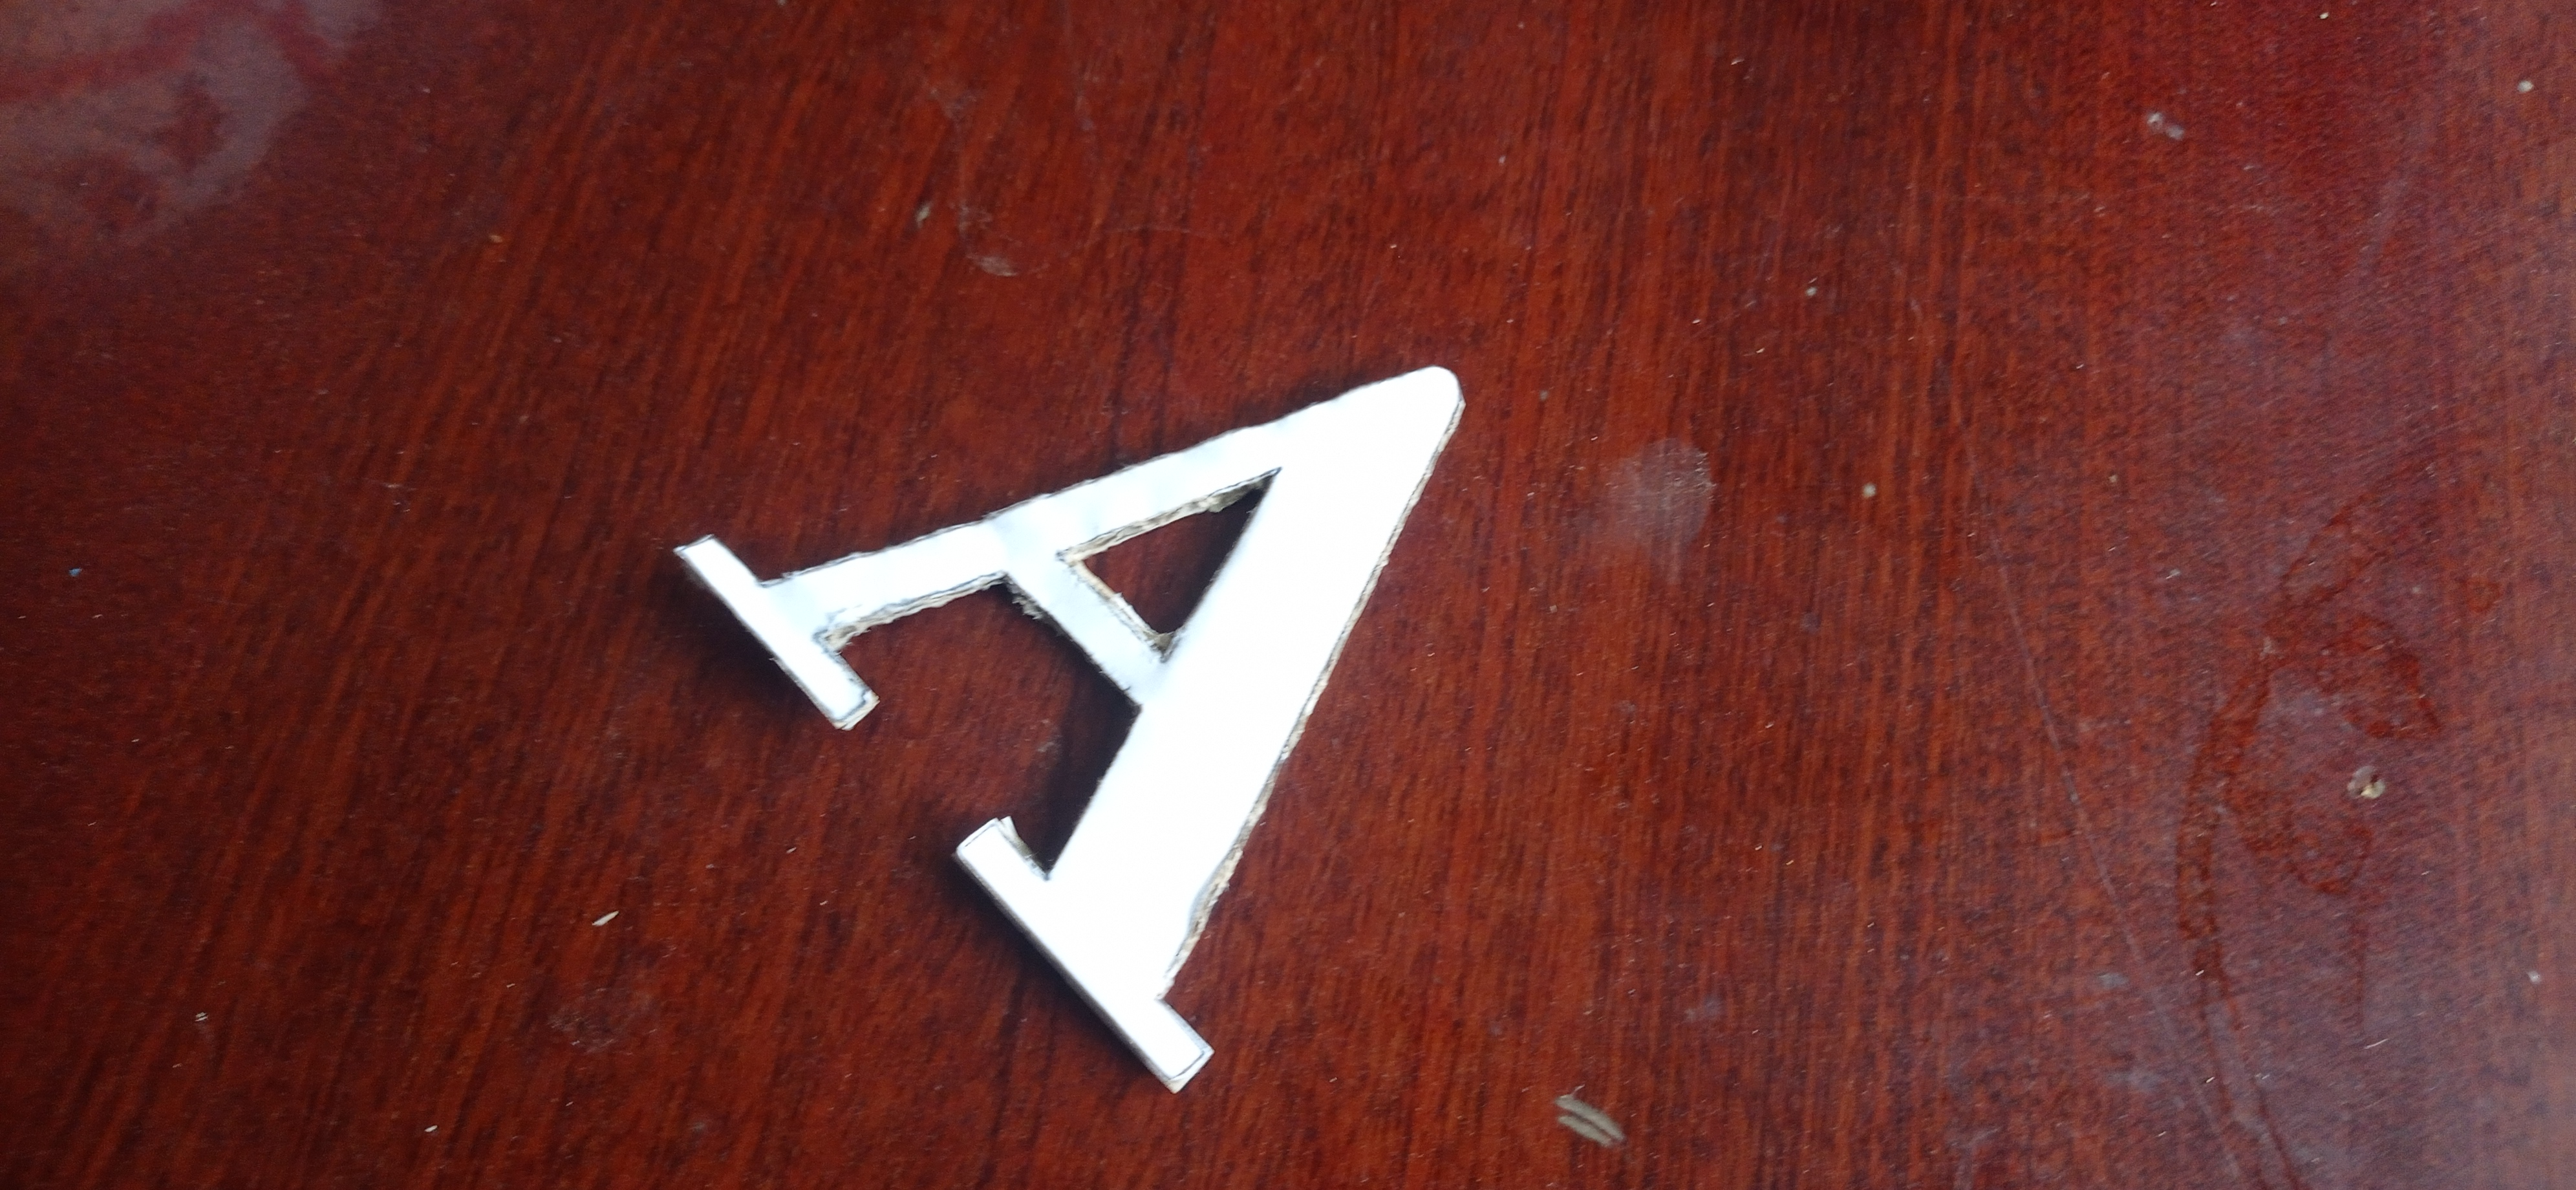a: (656, 358, 1467, 1095)
